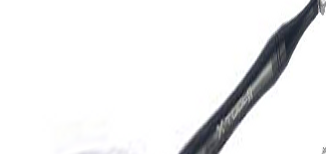Wrench: (171, 1, 326, 154)
